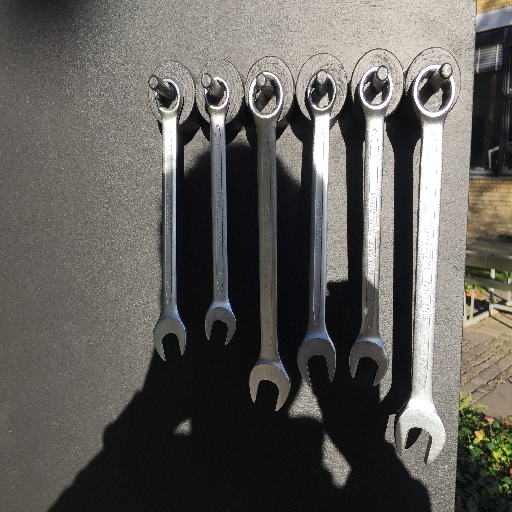bottom: (394, 401, 448, 466), (246, 358, 292, 413), (346, 334, 391, 389), (294, 334, 338, 389), (150, 313, 188, 362), (202, 302, 237, 348)
top: (410, 64, 457, 123), (246, 72, 286, 124), (356, 64, 395, 114), (305, 68, 338, 115), (152, 76, 186, 119), (202, 75, 234, 114)
